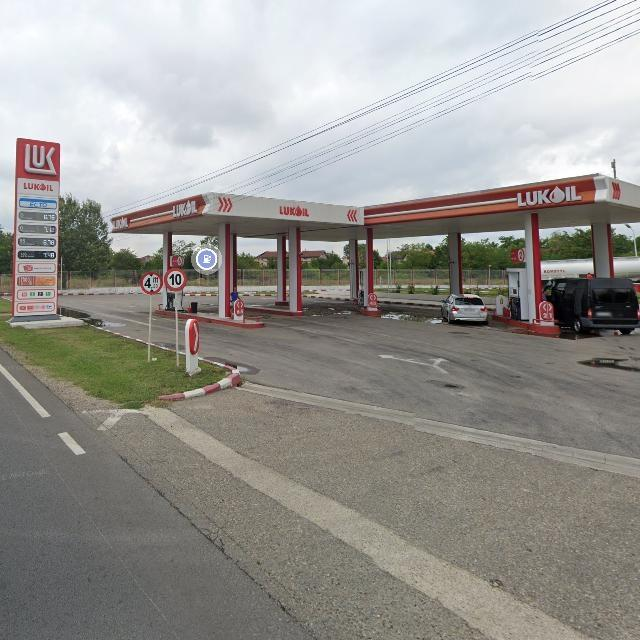forb_speed_over_10: (165, 269, 186, 292)
